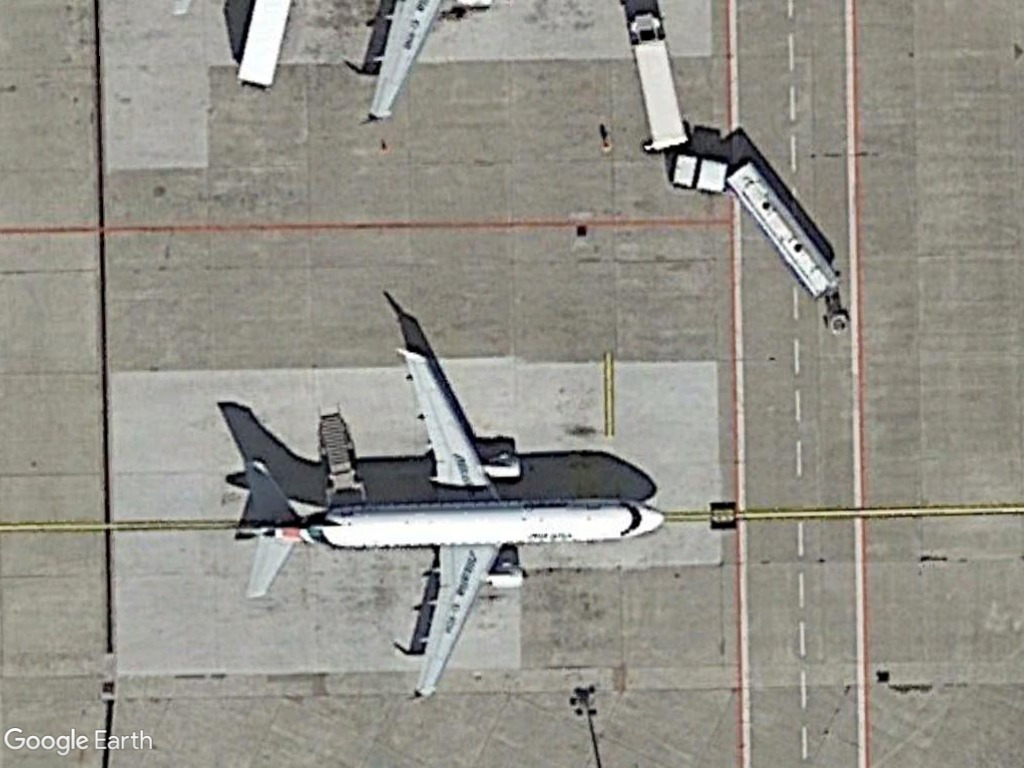airliner: (224, 339, 674, 704)
longvehicle: (725, 156, 844, 305), (625, 8, 694, 154)
stairtruck: (315, 406, 375, 506)
